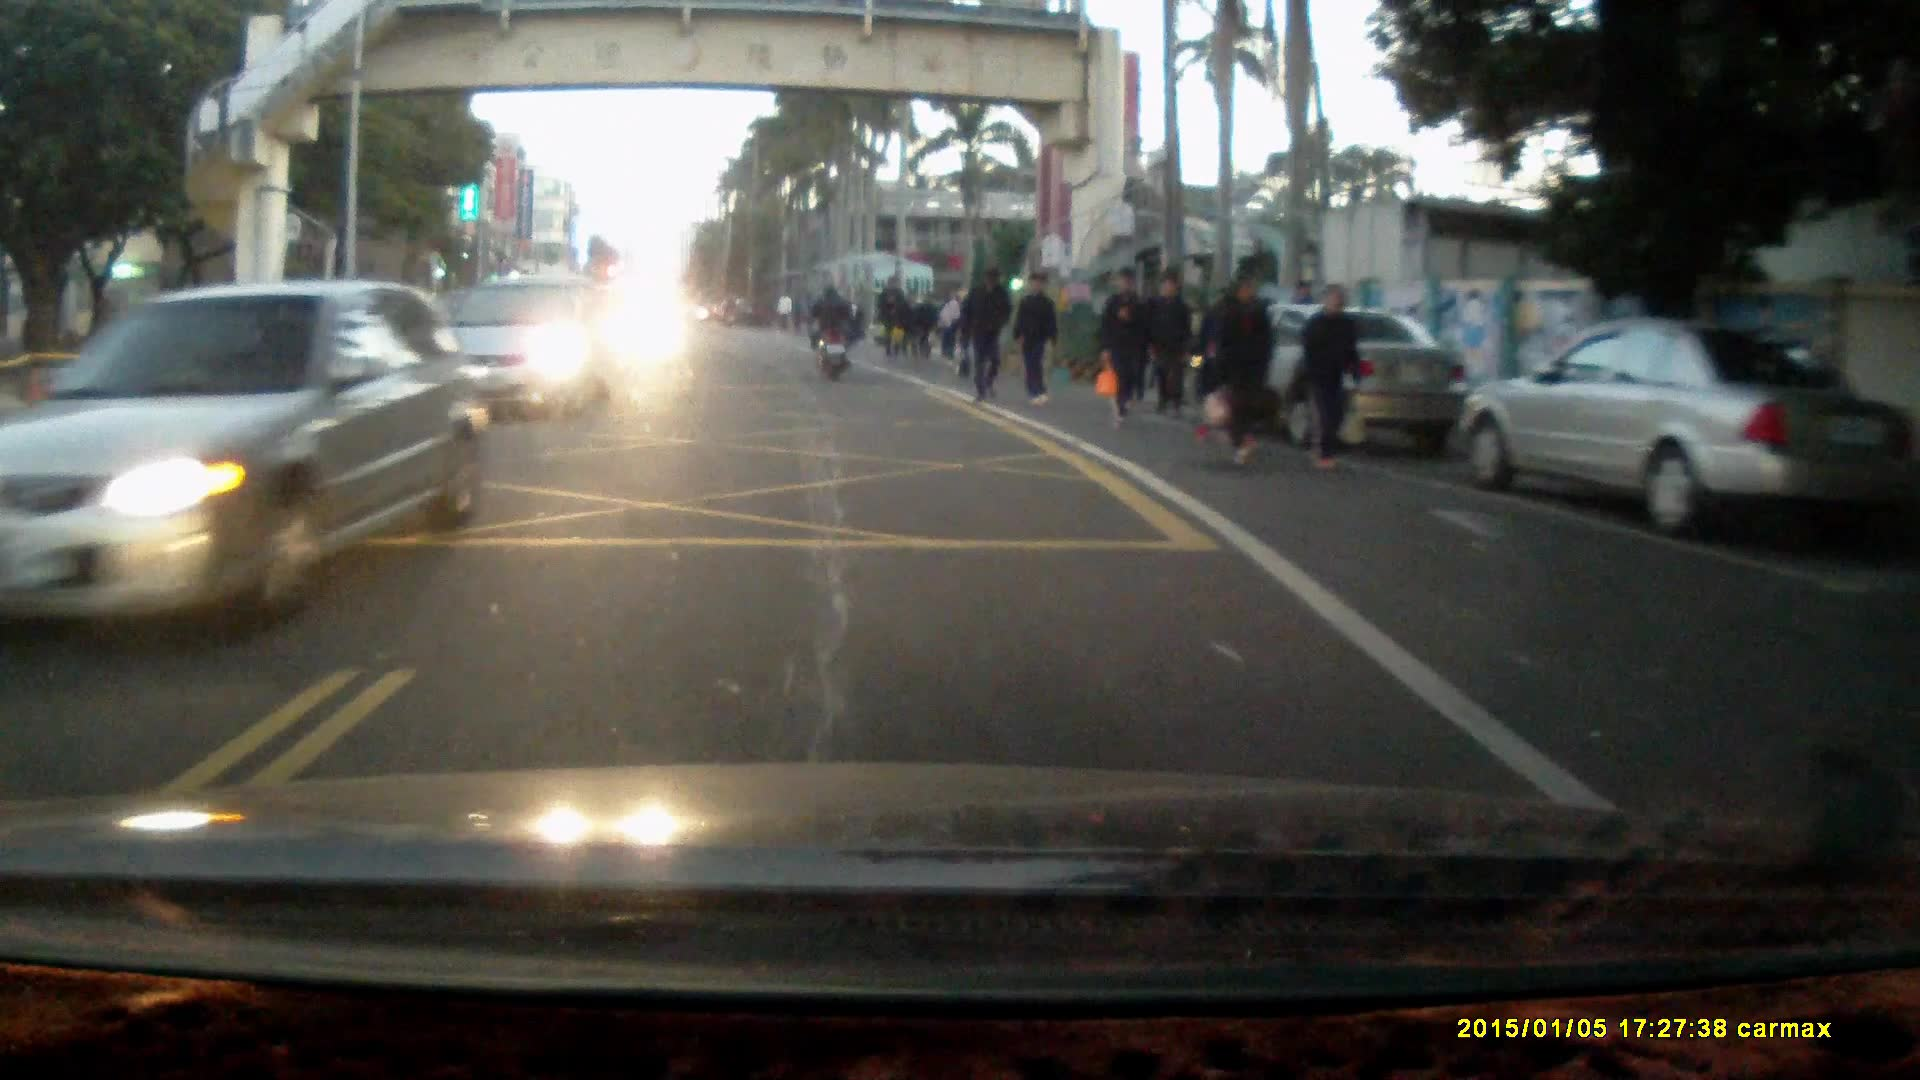pedestrian: (1294, 279, 1367, 472), (1215, 271, 1279, 468), (1096, 264, 1150, 426), (964, 272, 1017, 407), (1157, 264, 1202, 418), (1012, 269, 1061, 403), (872, 277, 903, 364), (934, 287, 962, 367), (897, 286, 927, 360)
rider: (808, 280, 855, 382)
vehicle: (9, 278, 484, 653), (1455, 320, 1908, 538), (1193, 303, 1473, 446), (413, 273, 618, 423)
